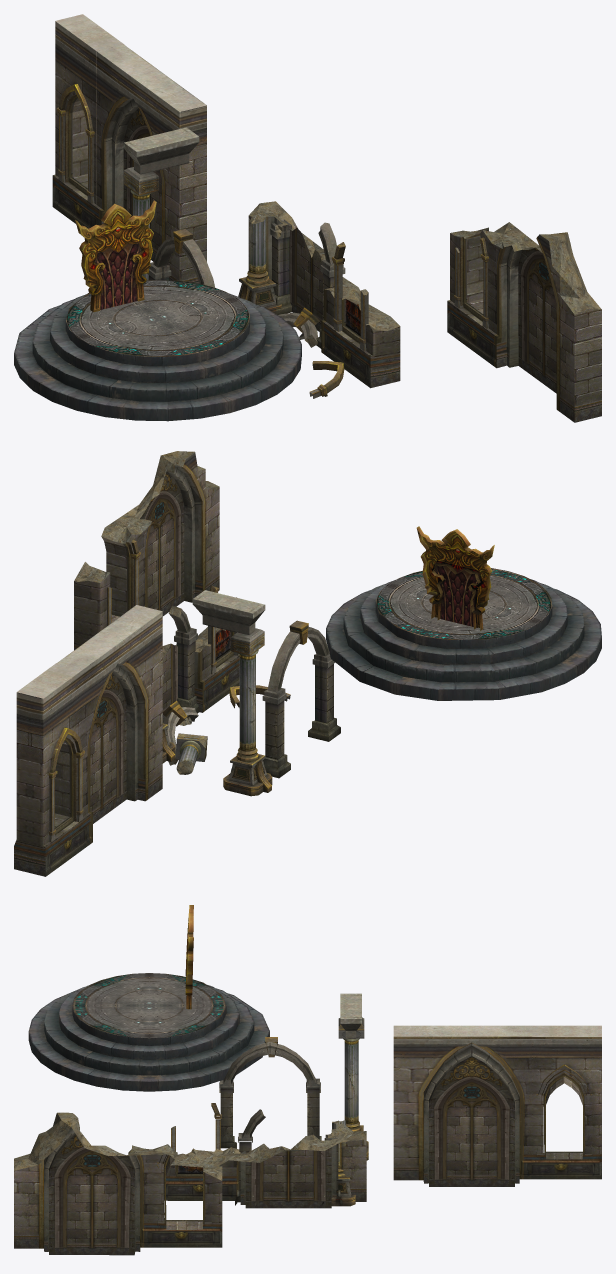
Rendered from f_102_wall.FBX.
The picture shows the model from 3 angles, top to bottom: view 1: azimuth 30°, elevation 25°; view 2: azimuth 150°, elevation 25°; view 3: azimuth 270°, elevation 25°; orthographic projection. The views are drawn at different scales.
Visible parts, largest first — view 1: w_103_wall_05, w_102_wall12, w_102_wall01, w_102_wall06, w_102_wall02, f_1102_wangzuo, w_102_wall04, w_102_wall07, w_102_wall08, w_102_wall05, w_102_wall03, w_102_wal10 (+1 smaller); view 2: w_103_wall_05, w_102_wall12, w_102_wall02, w_102_wall01, w_102_wall04, f_1102_wangzuo, w_102_wall05, w_102_wall06, w_102_wall03, w_102_wall07, w_102_wall09, w_102_wal10; view 3: w_103_wall_05, w_102_wall12, w_102_wall01, w_102_wall06, w_102_wall02, w_102_wall03, w_102_wall05, w_102_wall04, w_102_wall07, f_1102_wangzuo, w_102_wall08.
Boxes of the visible parts, x1=… form: w_103_wall_05: x1=14, y1=280, x2=301, y2=421; w_102_wall12: x1=447, y1=222, x2=601, y2=422; w_102_wall01: x1=94, y1=45, x2=206, y2=283; w_102_wall06: x1=248, y1=201, x2=400, y2=388; w_102_wall02: x1=52, y1=14, x2=124, y2=228; f_1102_wangzuo: x1=75, y1=200, x2=156, y2=312; w_102_wall04: x1=123, y1=127, x2=199, y2=280; w_102_wall07: x1=270, y1=219, x2=345, y2=348; w_102_wall08: x1=238, y1=210, x2=281, y2=313; w_102_wall05: x1=147, y1=228, x2=214, y2=287; w_102_wall03: x1=127, y1=125, x2=161, y2=261; w_102_wal10: x1=278, y1=307, x2=319, y2=347; w_103_wall_05: x1=326, y1=568, x2=601, y2=700; w_102_wall12: x1=74, y1=451, x2=219, y2=650; w_102_wall02: x1=14, y1=663, x2=85, y2=876; w_102_wall01: x1=57, y1=605, x2=162, y2=847; w_102_wall04: x1=192, y1=590, x2=272, y2=796; f_1102_wangzuo: x1=416, y1=526, x2=494, y2=630; w_102_wall05: x1=262, y1=620, x2=340, y2=778; w_102_wall06: x1=162, y1=585, x2=239, y2=723; w_102_wall03: x1=90, y1=689, x2=123, y2=823; w_102_wall07: x1=168, y1=606, x2=198, y2=713; w_102_wall09: x1=175, y1=733, x2=207, y2=774; w_102_wal10: x1=162, y1=701, x2=198, y2=765; w_103_wall_05: x1=28, y1=973, x2=269, y2=1091; w_102_wall12: x1=14, y1=1112, x2=222, y2=1255; w_102_wall01: x1=393, y1=1025, x2=532, y2=1186; w_102_wall06: x1=164, y1=1103, x2=366, y2=1208; w_102_wall02: x1=532, y1=1025, x2=601, y2=1179; w_102_wall03: x1=434, y1=1075, x2=509, y2=1186; w_102_wall05: x1=219, y1=1037, x2=321, y2=1148; w_102_wall04: x1=338, y1=993, x2=368, y2=1160; w_102_wall07: x1=235, y1=1109, x2=342, y2=1205; f_1102_wangzuo: x1=185, y1=905, x2=193, y2=1009; w_102_wall08: x1=331, y1=1120, x2=355, y2=1206.
Size of the model in its own units: 770 by 367 by 962.
